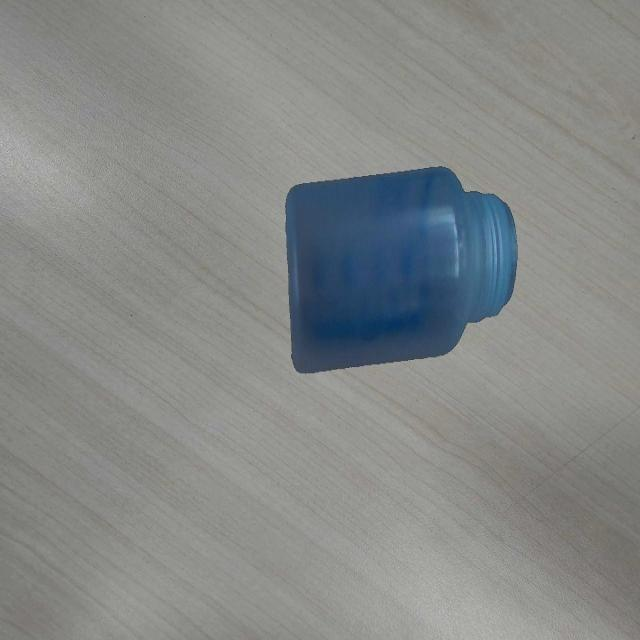bottle: (284, 164, 518, 376)
